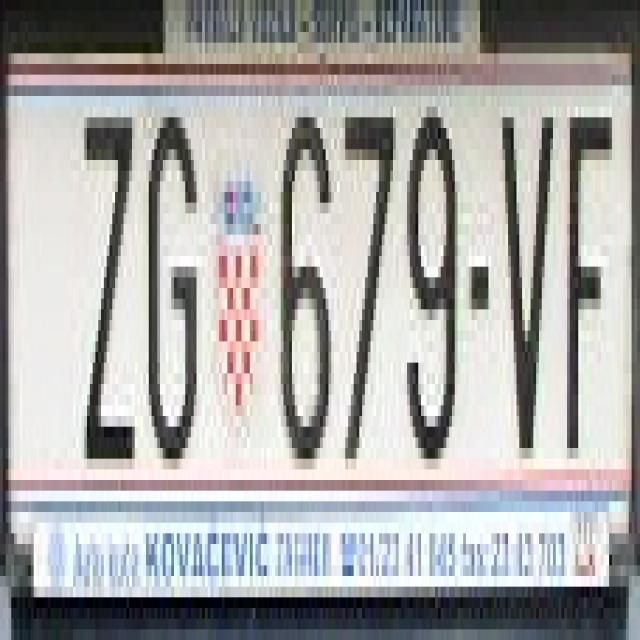6: (275, 96, 331, 480)
7: (337, 96, 396, 469)
9: (402, 85, 461, 448)
F: (562, 85, 618, 448)
G: (140, 96, 202, 469)
V: (494, 96, 550, 469)
Z: (81, 96, 140, 469)
